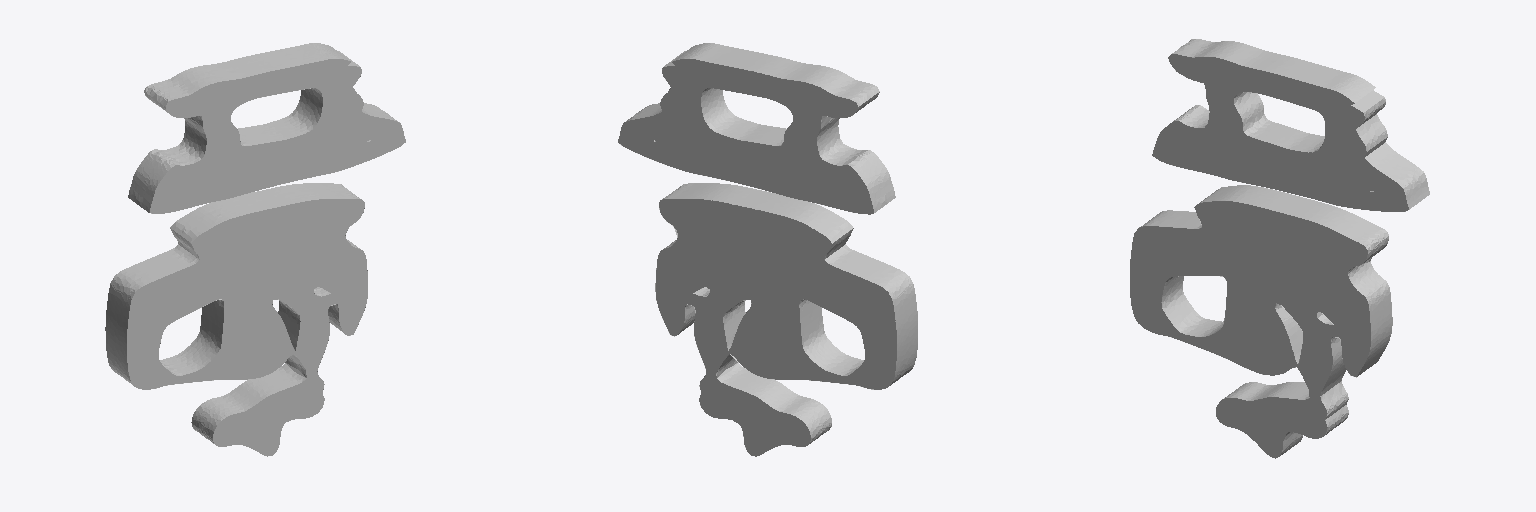
The model's file is script3.obj.
3 renders of one model, left to right at view 1: azimuth 30°, elevation 25°; view 2: azimuth 150°, elevation 25°; view 3: azimuth 330°, elevation 25°, orthographic.
Parts seen in each view (by area): view 1: script_3; view 2: script_3; view 3: script_3.
Part boxes in pixels (left/top/right/bottom): script_3: left=105, top=43, right=405, bottom=456; script_3: left=618, top=43, right=917, bottom=456; script_3: left=1130, top=39, right=1429, bottom=458.
Size of the model in its own units: 7.56 by 10 by 1.01.